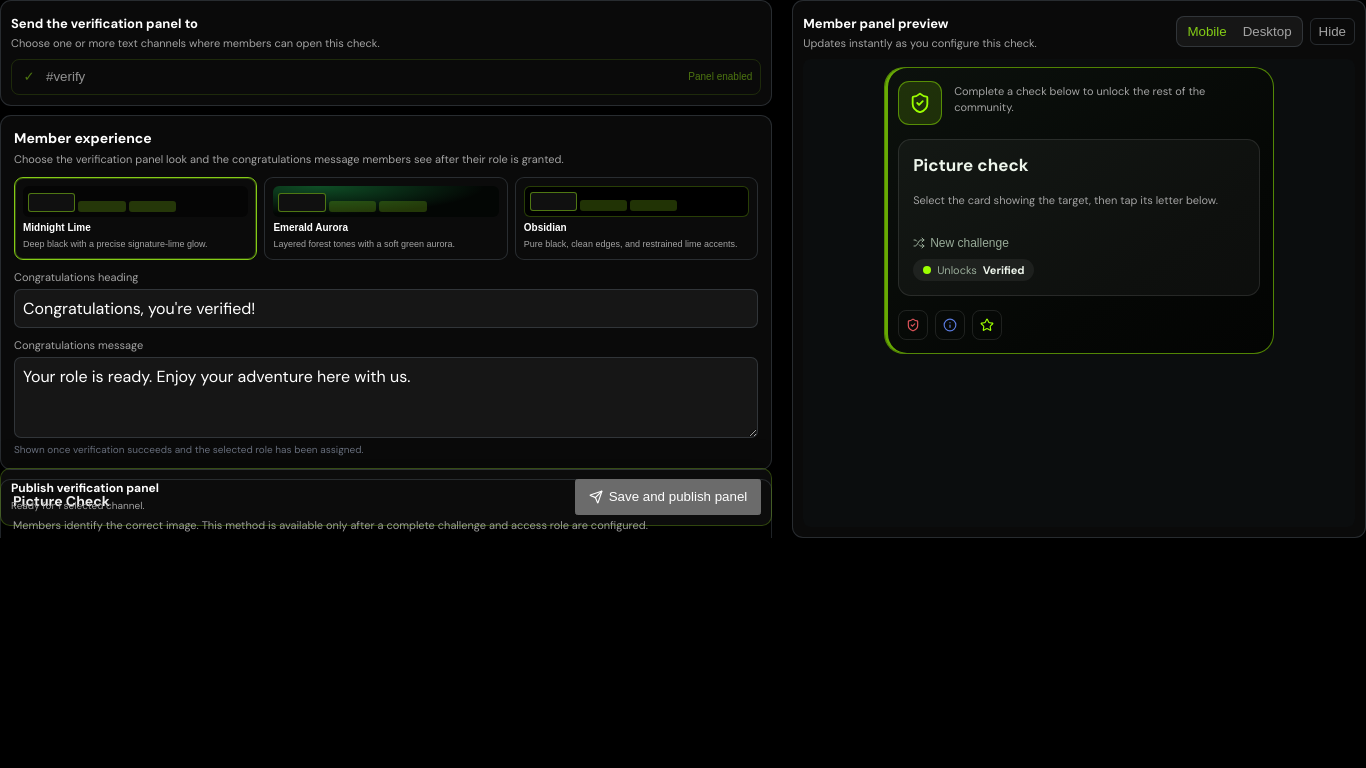
it: VerificationToolDashboard › shows publish errors in the picture workspace
What coordinates should you click on to do the following:
click the button "Save and publish panel"
I would click on:
 (668, 497)
Its box is [575,479,761,515].
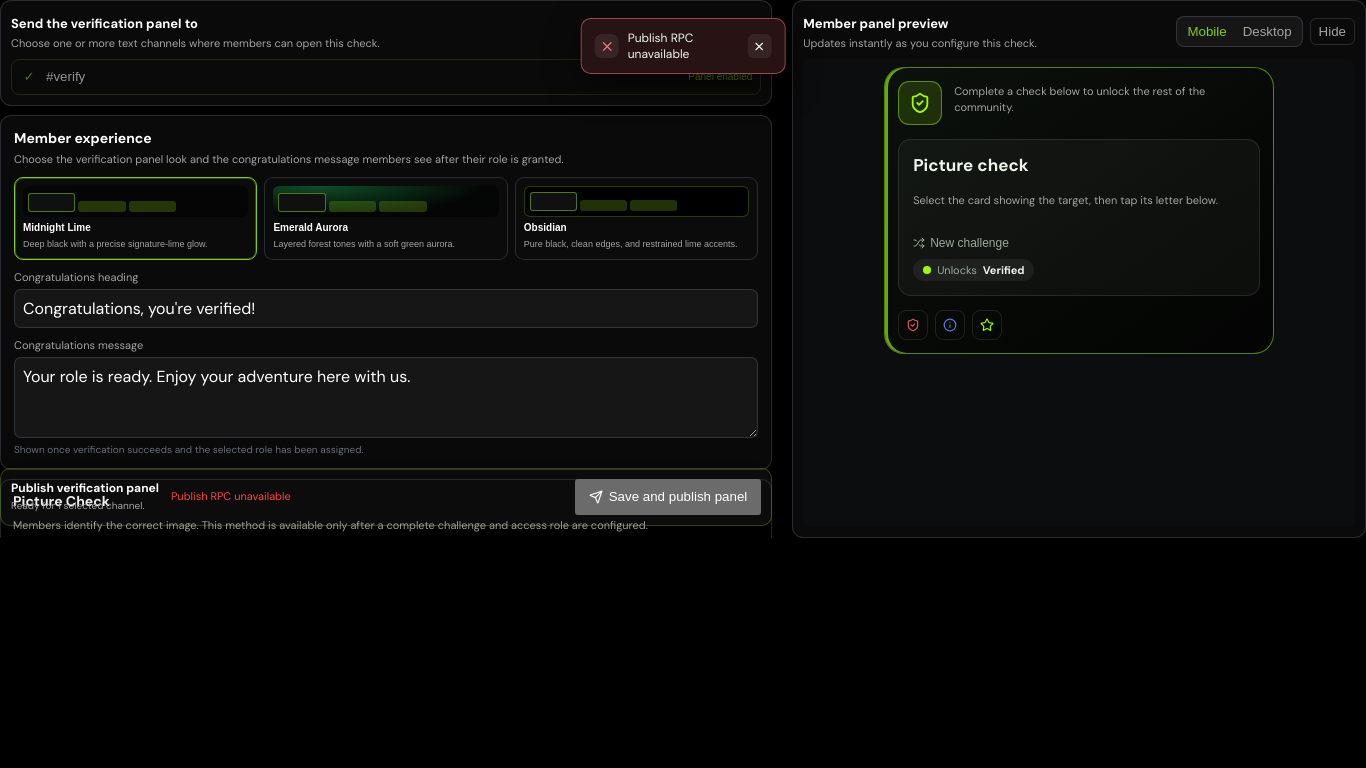
Expected: the element that starts with "Publish verification panel" is shown, [0,468,772,526]
Result: the message "Publish RPC unavailable" next to "Publish verification panel" is shown at [171,490,291,504]
Result: the text "Publish RPC unavailable" is shown at [628,30,693,62]
